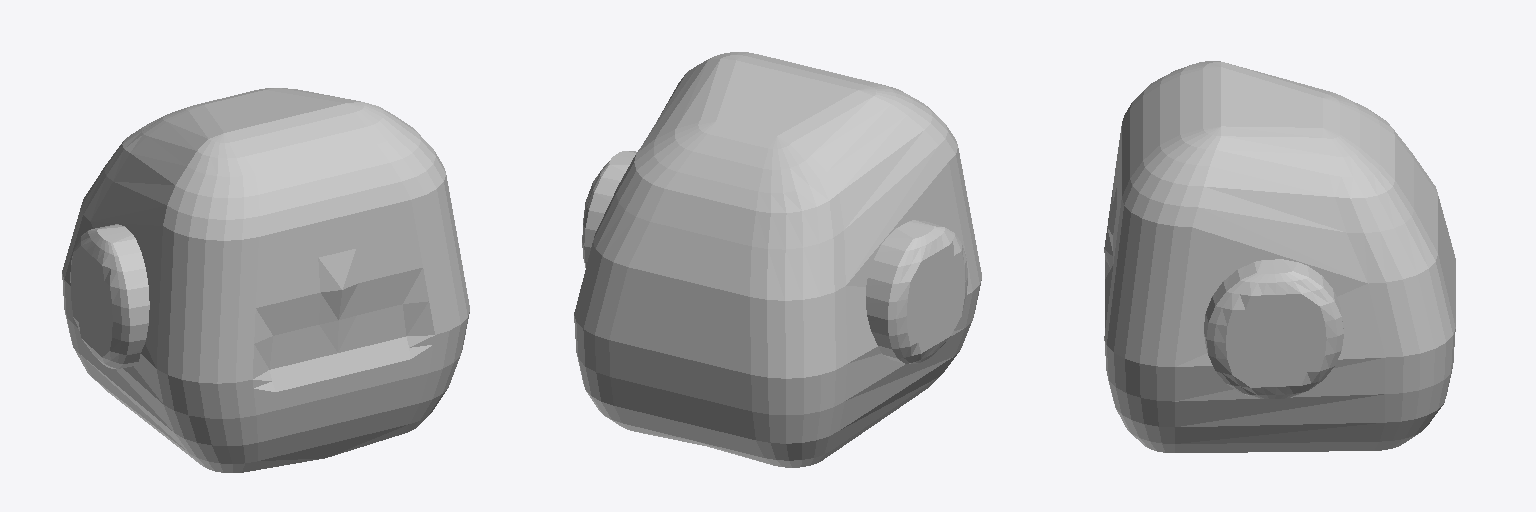
Rendered from HeadCubic.obj.
The picture shows the model from 3 angles: view 1: azimuth 30°, elevation 25°; view 2: azimuth 150°, elevation 25°; view 3: azimuth 270°, elevation 25°; orthographic projection.
Parts seen in each view (by area): view 1: unnamed_object1; view 2: unnamed_object1; view 3: unnamed_object1.
Boxes of the visible parts, box(x1,y1,x2,y2) form: unnamed_object1: box(62, 88, 469, 472); unnamed_object1: box(574, 52, 981, 467); unnamed_object1: box(1104, 61, 1455, 452).
Size of the model in its own units: 21.83 by 19.5 by 19.5.